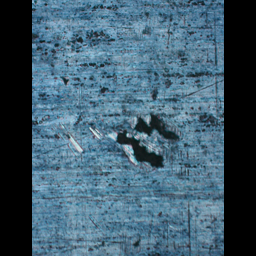d: (81, 107, 178, 172)
